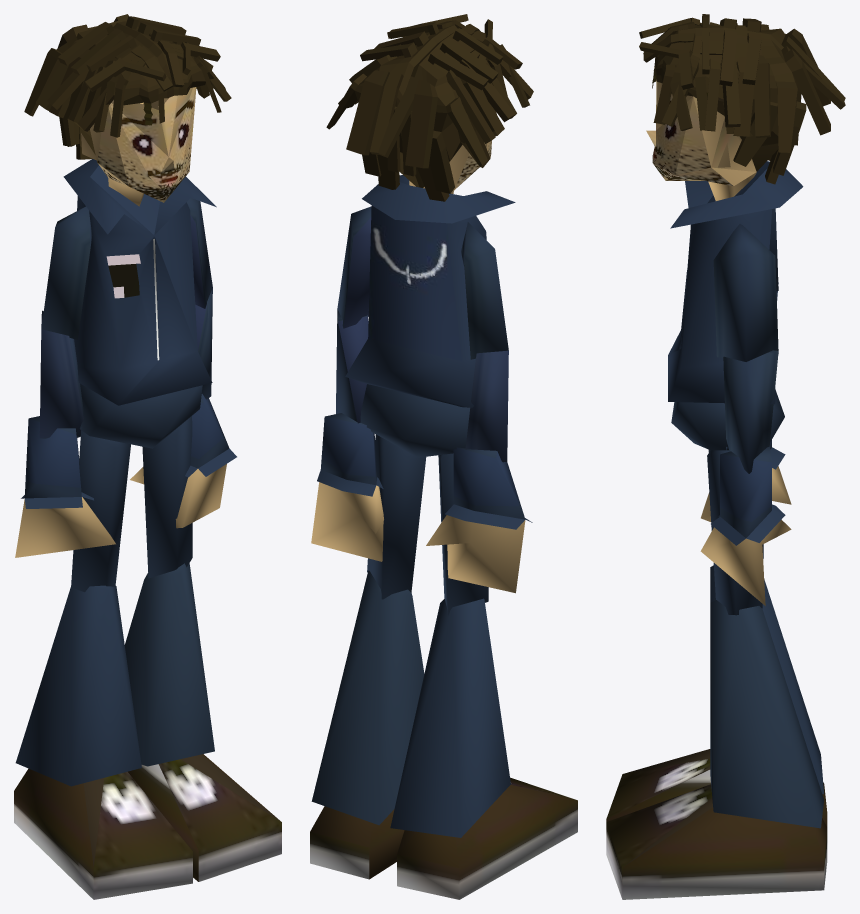
3 renders of one model, left to right at view 1: azimuth 30°, elevation 25°; view 2: azimuth 150°, elevation 25°; view 3: azimuth 270°, elevation 25°, orthographic.
Visible parts, largest first — view 1: quadeca character.001; view 2: quadeca character.001; view 3: quadeca character.001.
Part boxes in pixels (x1,y1,x2,y2): quadeca character.001: [14, 14, 281, 899]; quadeca character.001: [310, 14, 577, 899]; quadeca character.001: [606, 14, 845, 899].
Bounding box in the file's own units: 2.29 × 8.43 × 2.21.
Materials: 2 (2 with a texture image).
